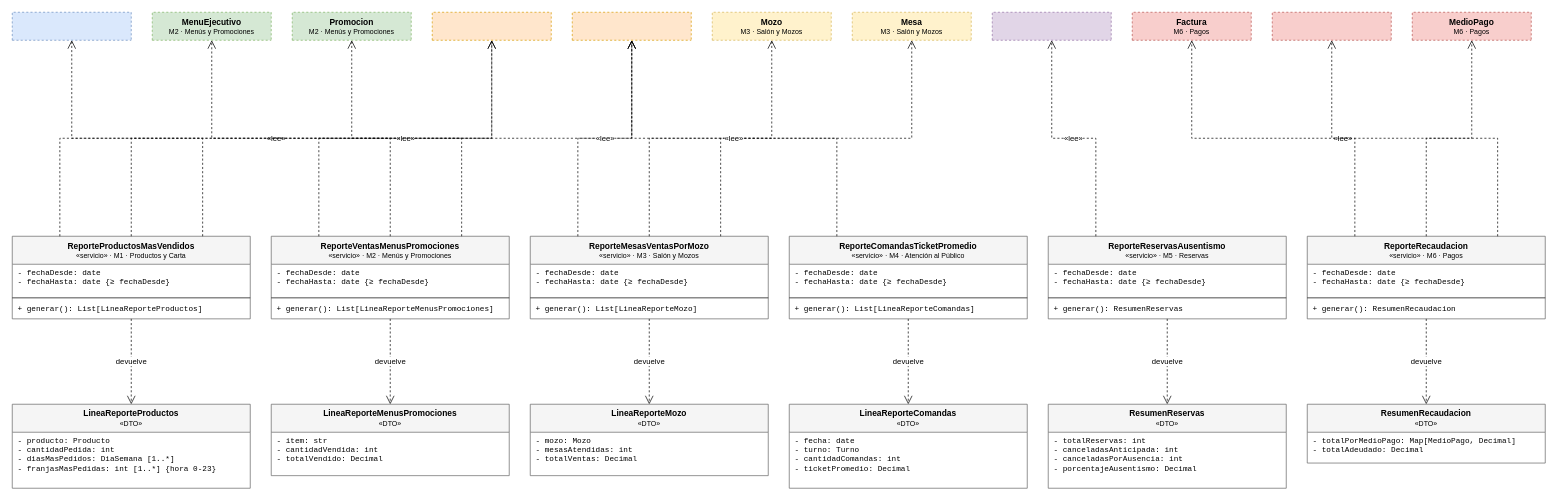
This 1558x503 diagram has some shape labels left out. Each missing label, with the centre of its shape:
Cobro M6 · Pagos: the point at 1331,26
Comanda M4 · Atención al Público: the point at 631,26
DetalleComanda M4 · Atención al Público: the point at 491,26
Producto M1 · Productos y Carta: the point at 71,26
Reserva M5 · Reservas: the point at 1051,26
